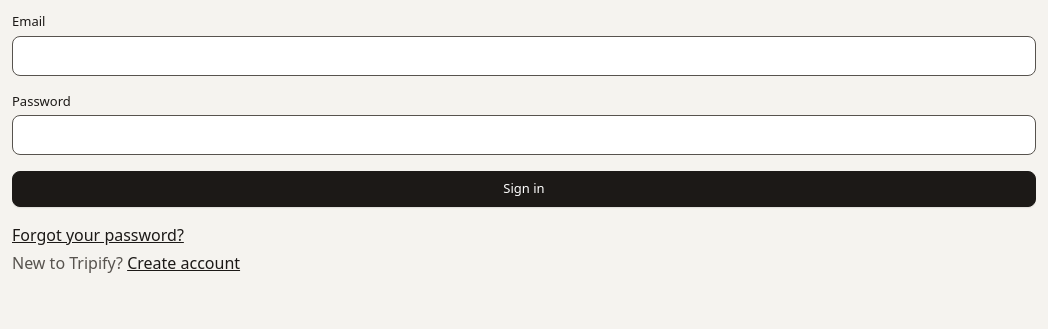
Test: sign in and out › shows a message for a wrong password
The image size is (1048, 329).
Step 1. Type "ada@example.com" into the field labelled "Email" → (524, 56), box [12,36,1036,76]
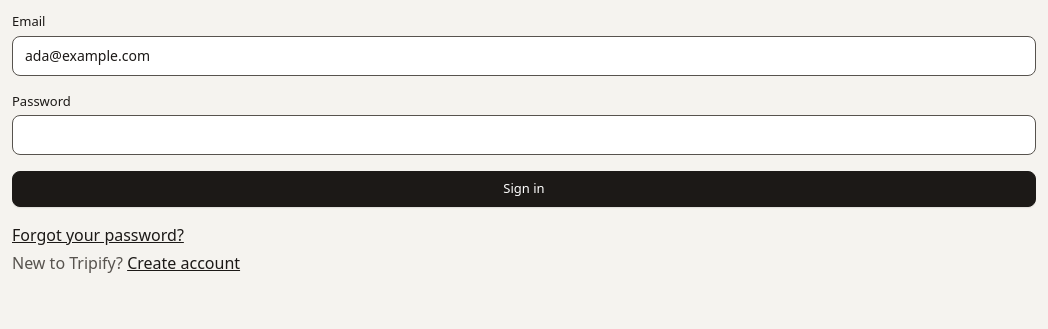
Step 2. Type "whatever-1" into the password field labelled "Password" → (524, 135), box [12,115,1036,155]
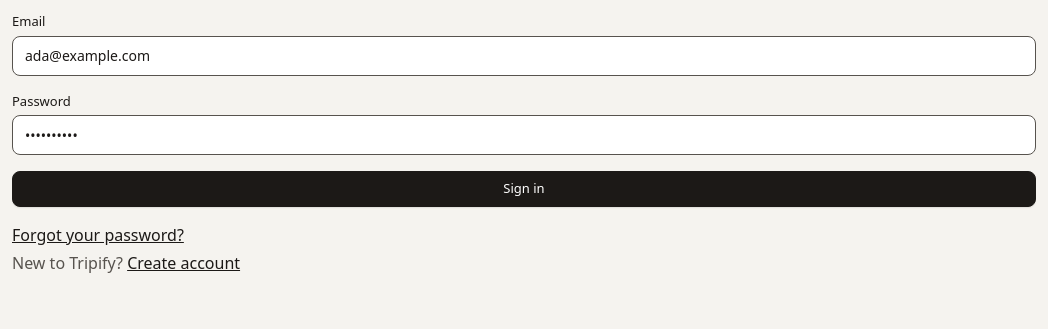
Step 3. Click the button "Sign in" → click(524, 189), box [12,171,1036,207]
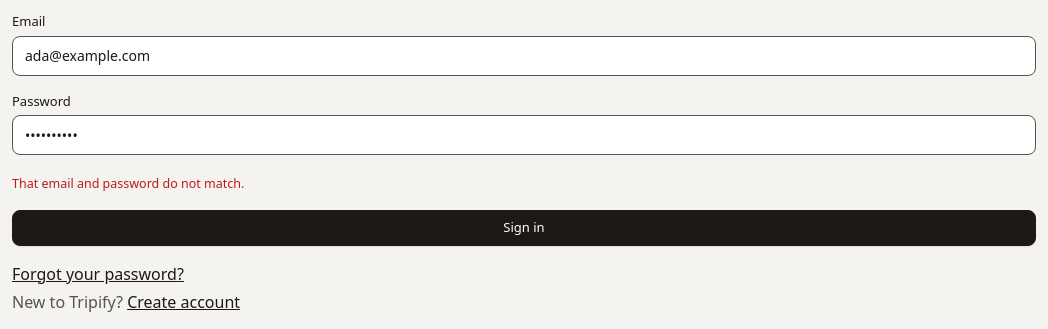
Check: the message reads "That email and password do not match.", box [12,175,244,192]
